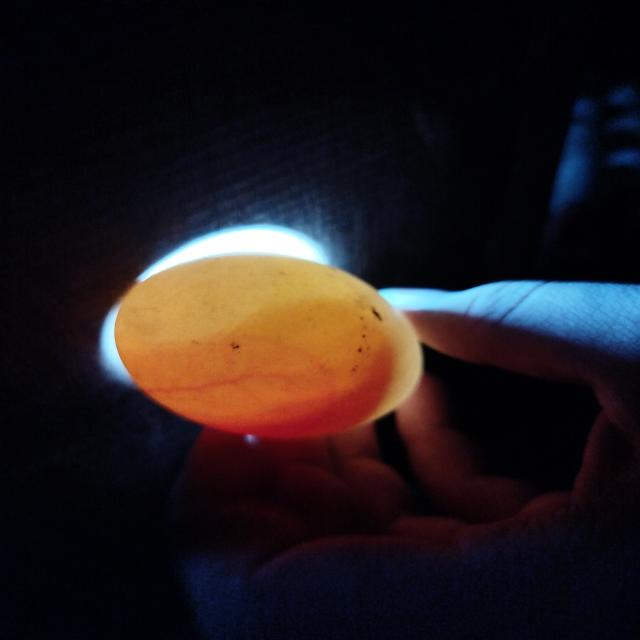Camara de Ar: (114, 253, 270, 342)
Gema Quebrada: (210, 347, 393, 437)
